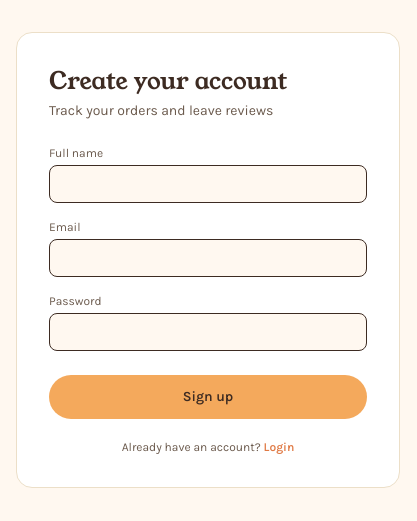
Test: SignupPage - unit tests › sends name metadata with email/password and renders Supabase errors
Type "Afsana Tester" into the field below "Full name" at point(208, 184), box [49,164,367,202]
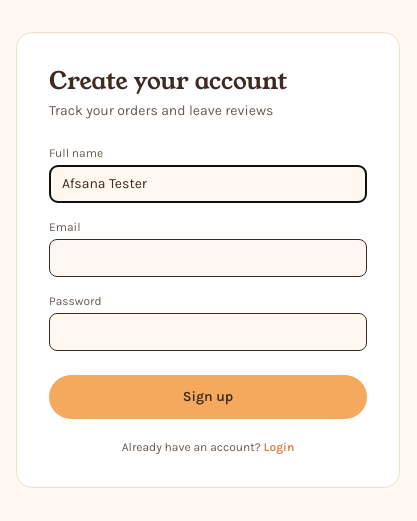
Type "afsana@example.com" into the field below "Email" at point(208, 258), box [49,238,367,276]
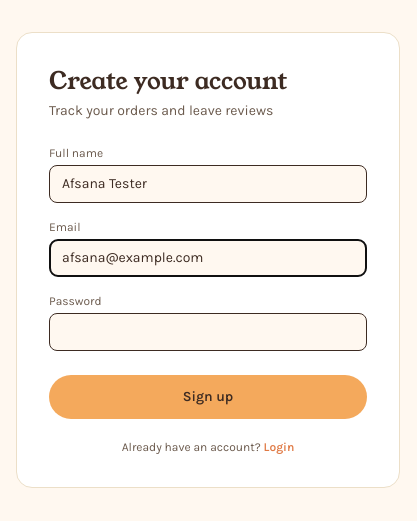
Type "secret12" into the password field at point(208, 332), box [49,312,367,350]
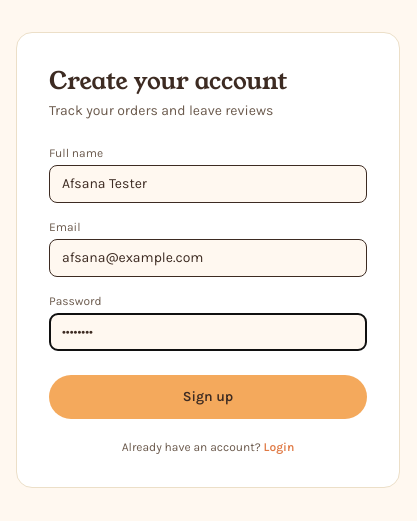
Click the button "Sign up" at point(208, 396), box [49,374,367,418]
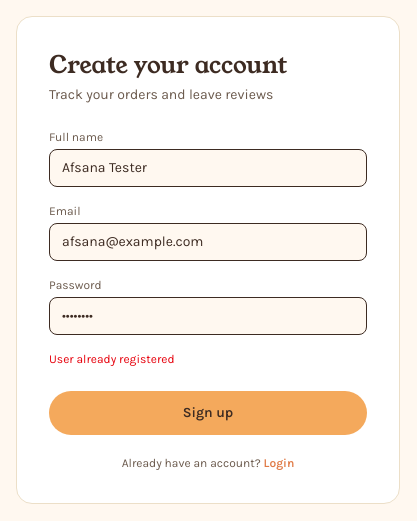
Expected: the text "User already registered" is shown, [49,352,175,366]
